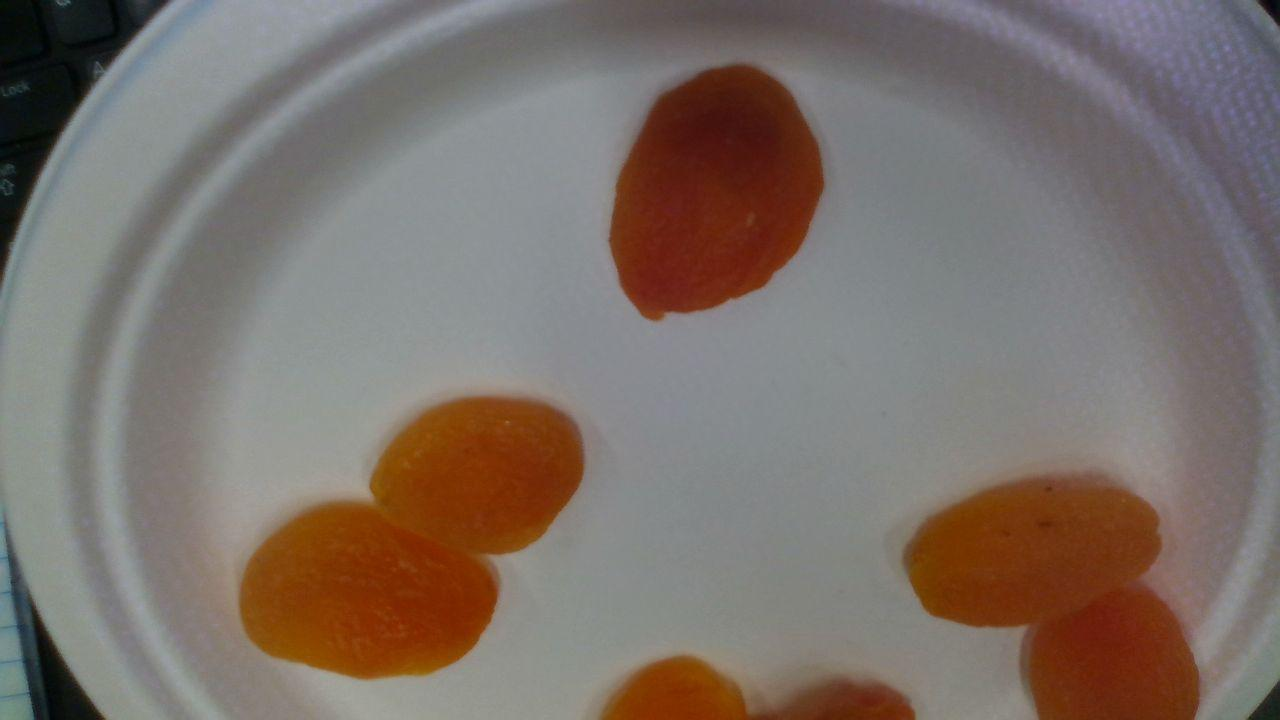apricot: (610, 67, 824, 319), (239, 507, 498, 678), (906, 479, 1163, 627), (370, 398, 585, 554), (1028, 587, 1201, 720)
